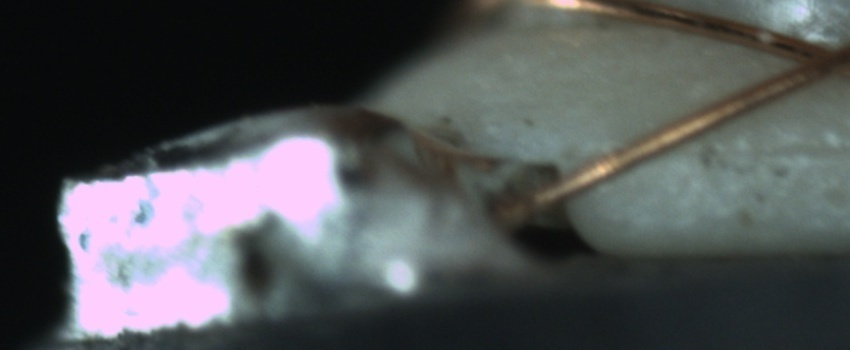CL: (773, 26, 848, 91)
DL: (687, 121, 849, 180)
